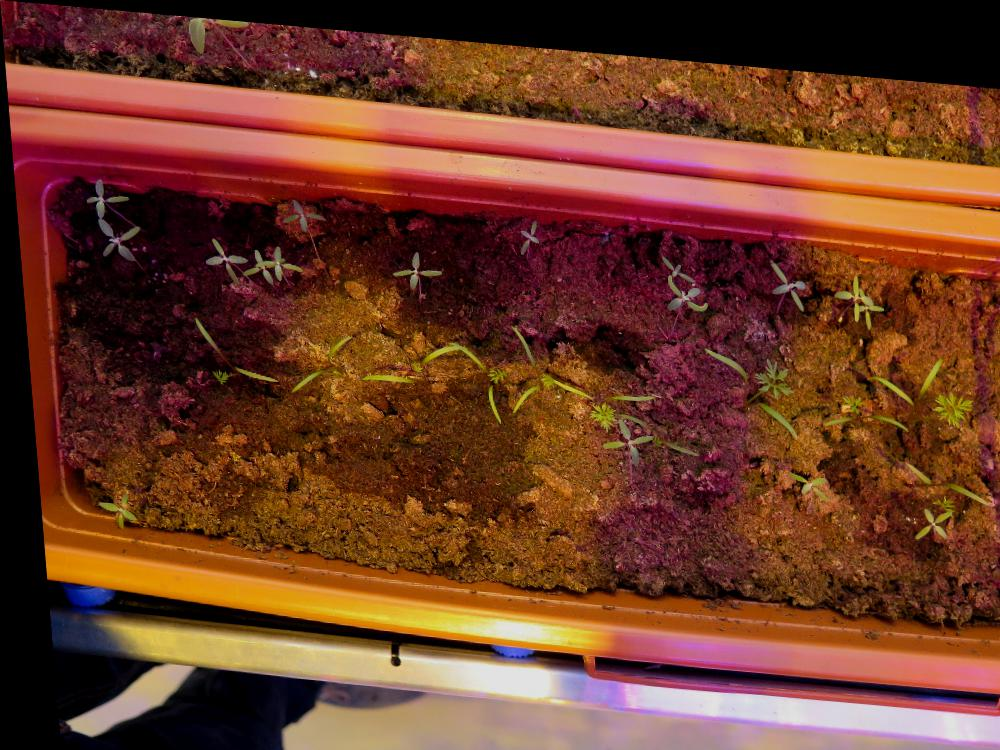weed: (385, 239, 440, 285), (78, 173, 127, 219), (91, 215, 138, 261), (764, 246, 803, 297), (86, 486, 130, 528), (275, 190, 323, 228), (903, 488, 947, 526), (777, 455, 823, 489), (513, 207, 536, 247)
